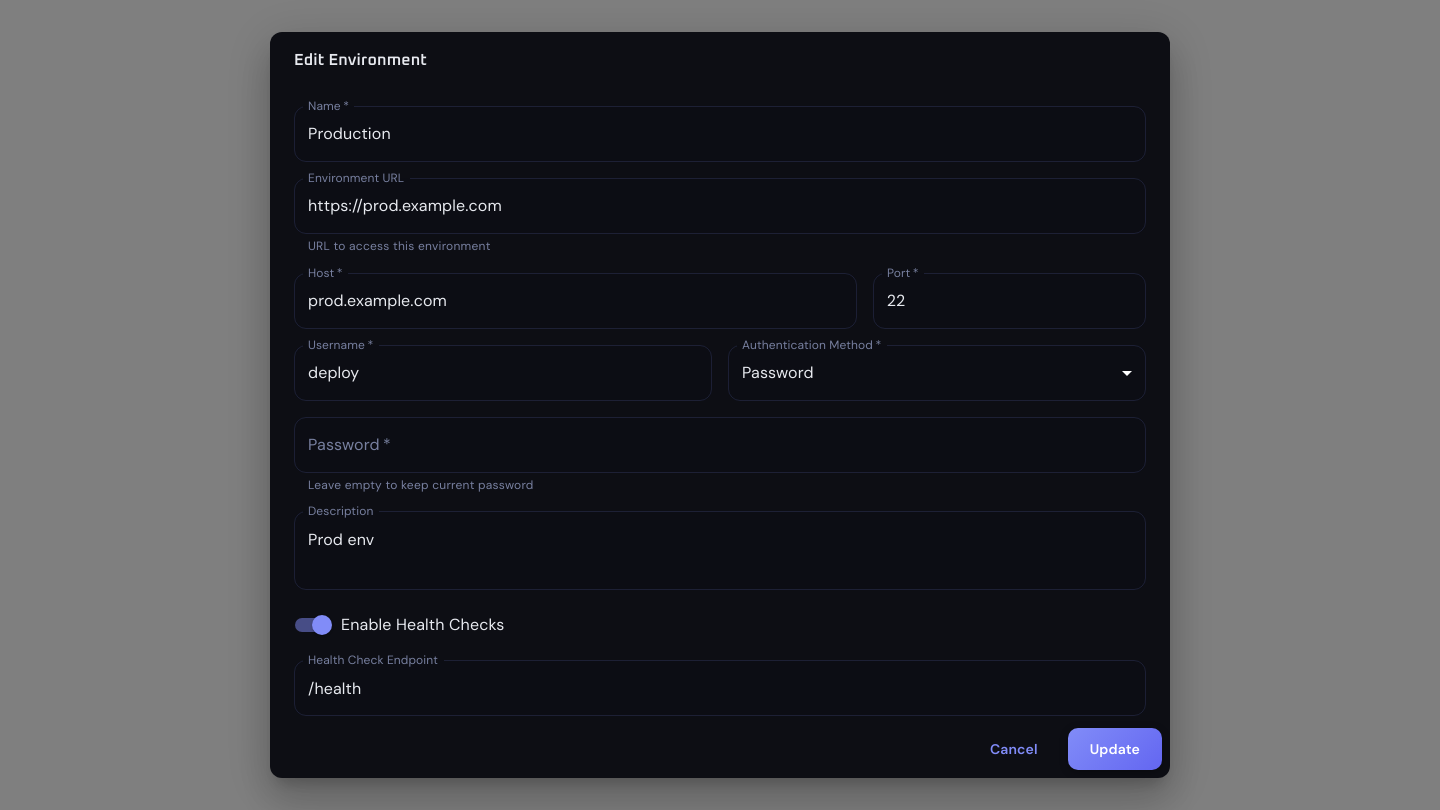
it: EditEnvironmentDialog › toggles health check fields
The image size is (1440, 810).
expect the field labelled "Health Check Endpoint" is shown: met, box [294, 660, 1146, 716]
// Toggle off
Click the checkbox labelled "Enable Health Checks": (400, 625) [295, 614, 504, 635]
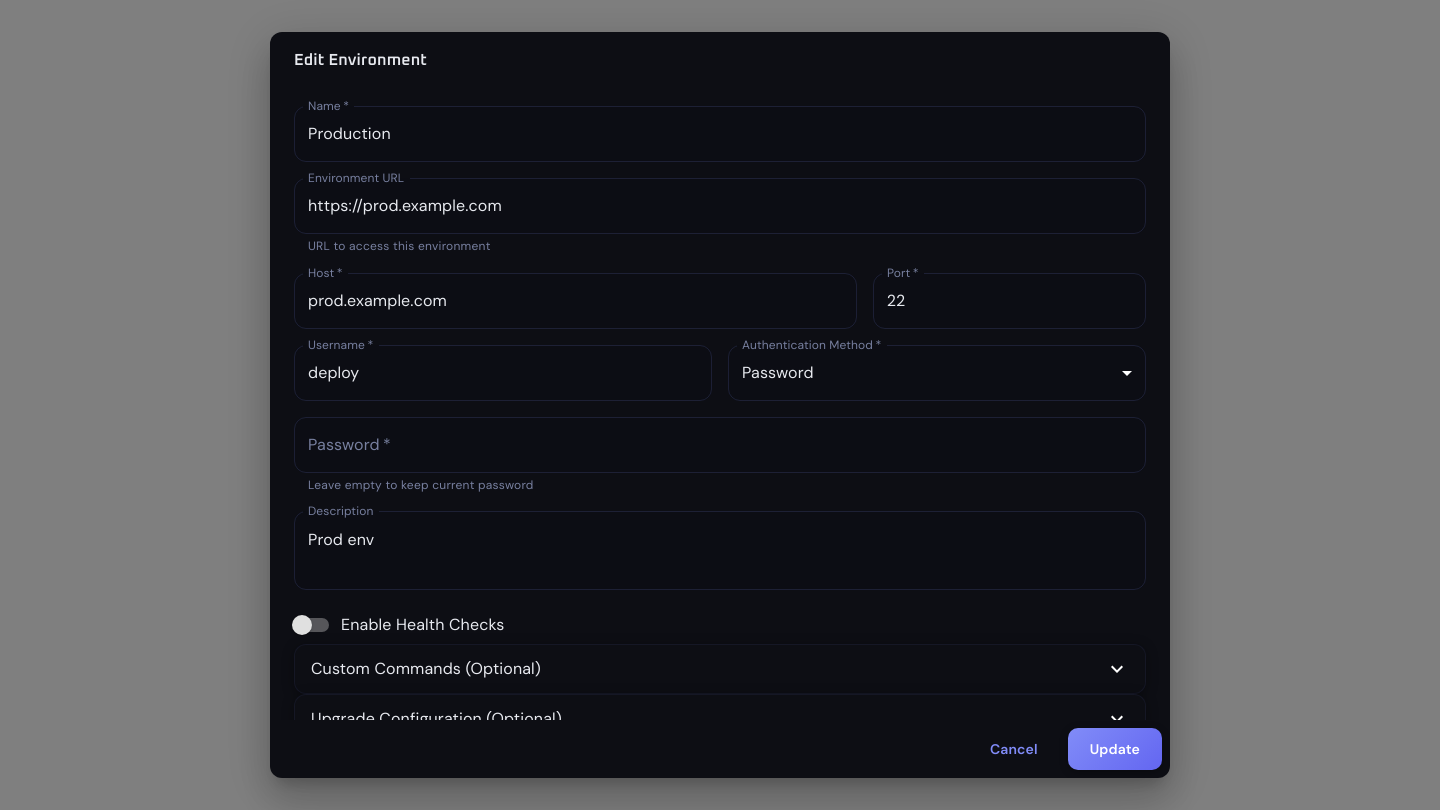
expect the label labelled "Health Check Endpoint" is gone: met
